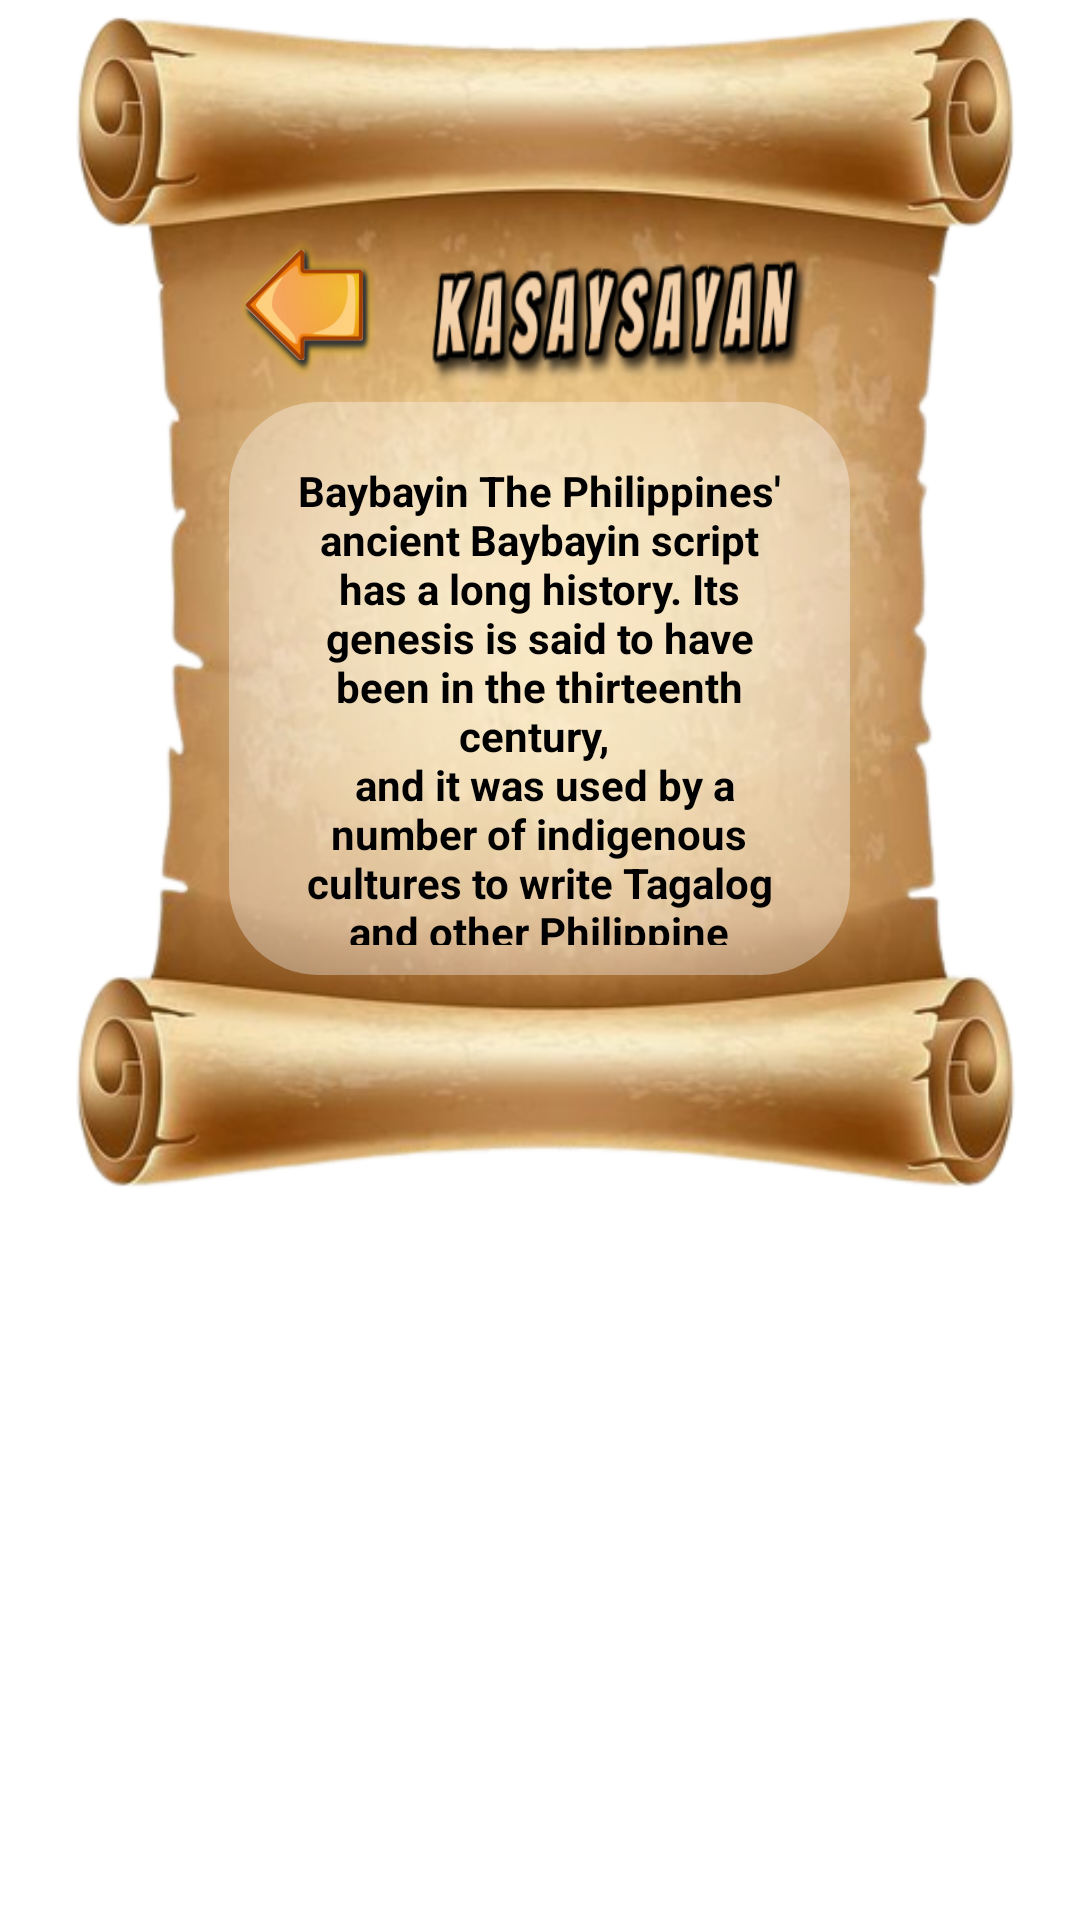

Icon click points for this 1080 × 1920 phone screenshot, format [x,y]:
Back: [307,309]
